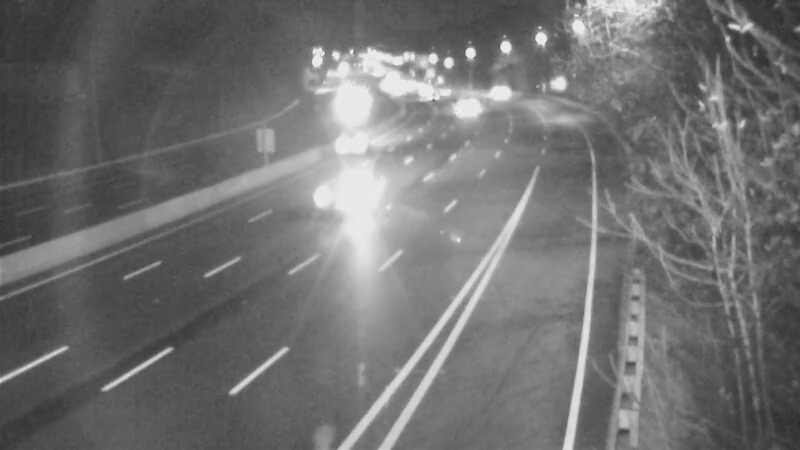vehicle: (312, 149, 392, 229), (470, 58, 520, 108), (447, 83, 497, 133), (334, 116, 384, 166), (324, 80, 374, 130)
